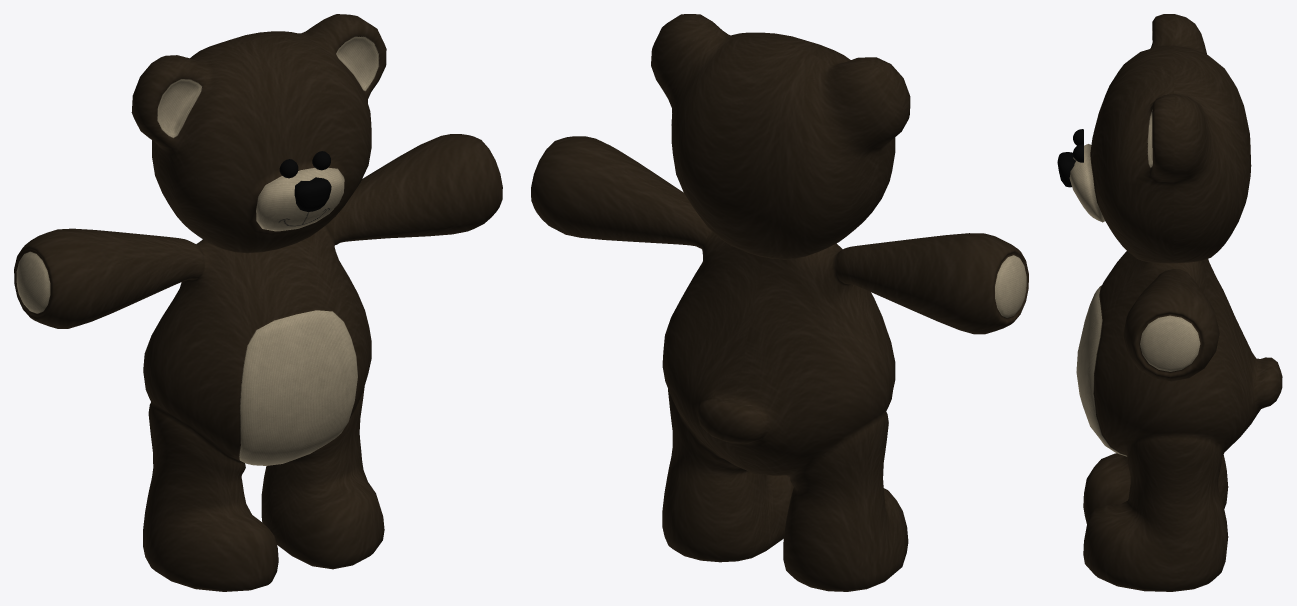
Rendered from Orasacchiotto.fbx.
3 views of the same model, side by side, from view 1: azimuth 30°, elevation 25°; view 2: azimuth 150°, elevation 25°; view 3: azimuth 270°, elevation 25° (orthographic). The views are drawn at different scales.
Parts seen in each view (by area): view 1: Teddybear; view 2: Teddybear; view 3: Teddybear.
Part boxes in pixels (x1=…): Teddybear: x1=14, y1=14, x2=502, y2=591; Teddybear: x1=531, y1=14, x2=1028, y2=591; Teddybear: x1=1057, y1=14, x2=1282, y2=591.
Size of the model in its own units: 88.47 by 91.92 by 38.46.
Materials: 1 (1 with a texture image).
